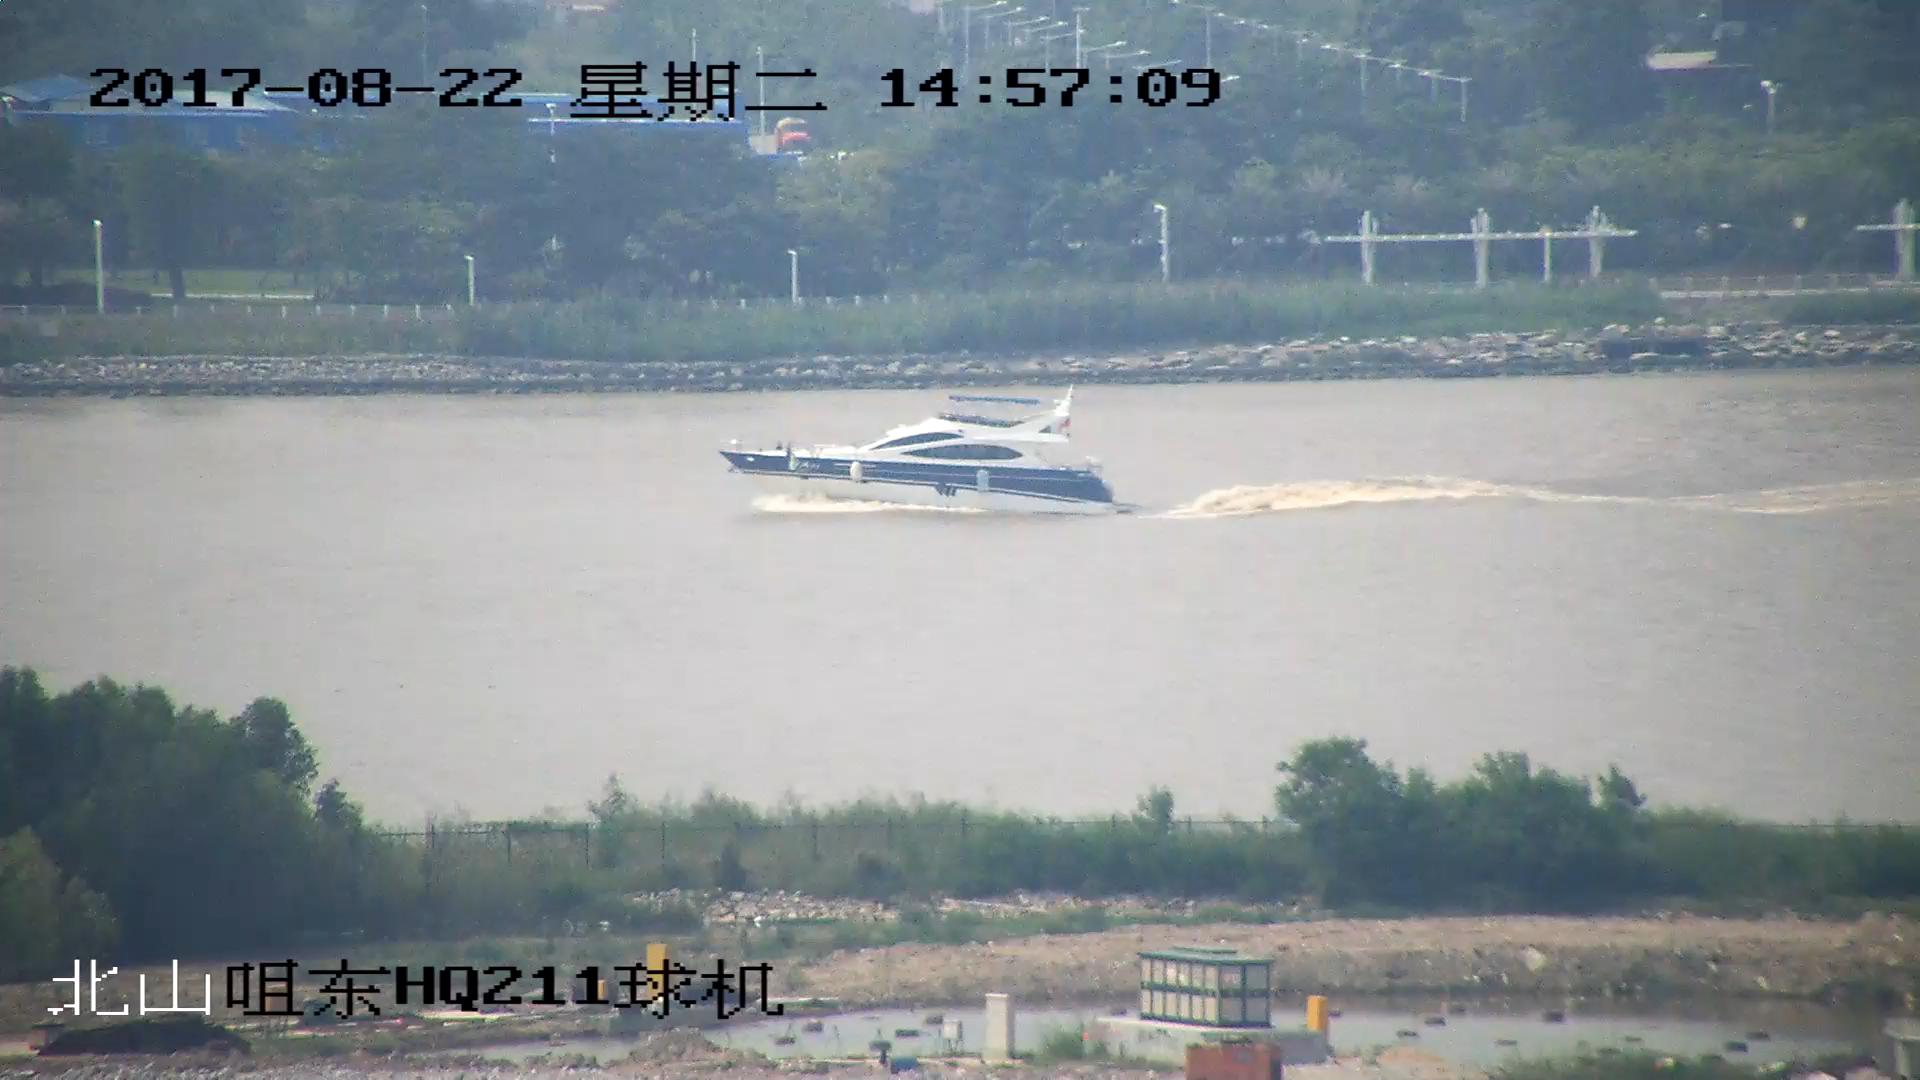passenger ship: (720, 393, 1124, 521)
